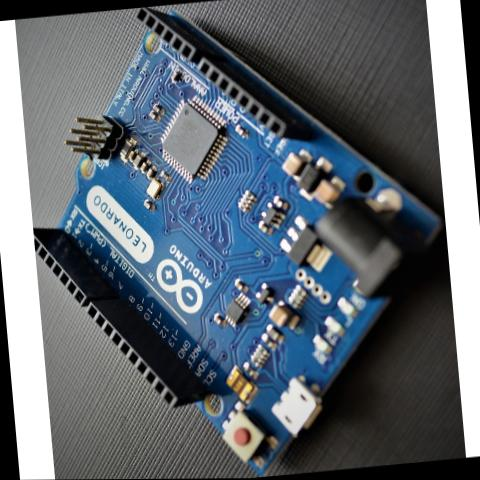Arduino-Leonardo: (14, 0, 465, 480)
